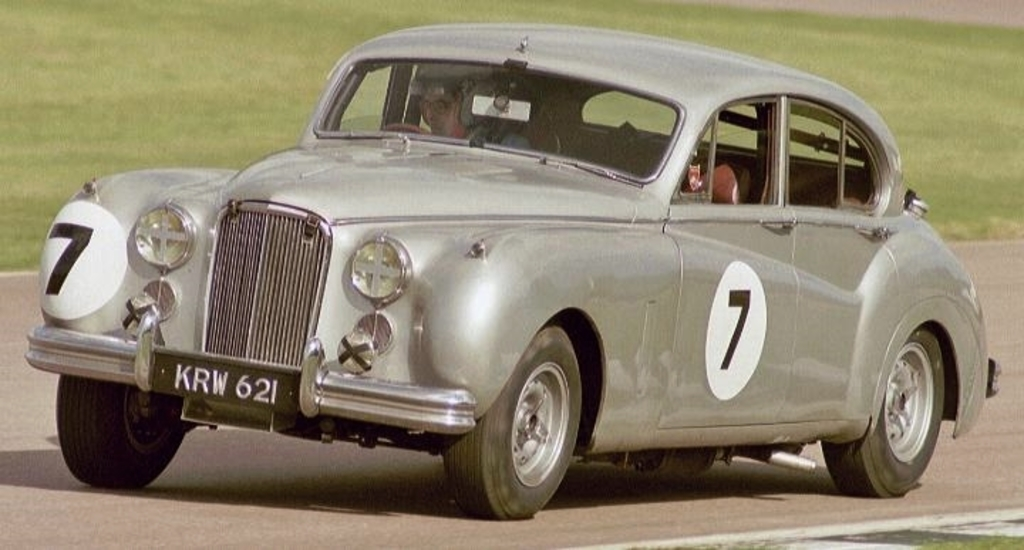Car: (34, 31, 1002, 520)
